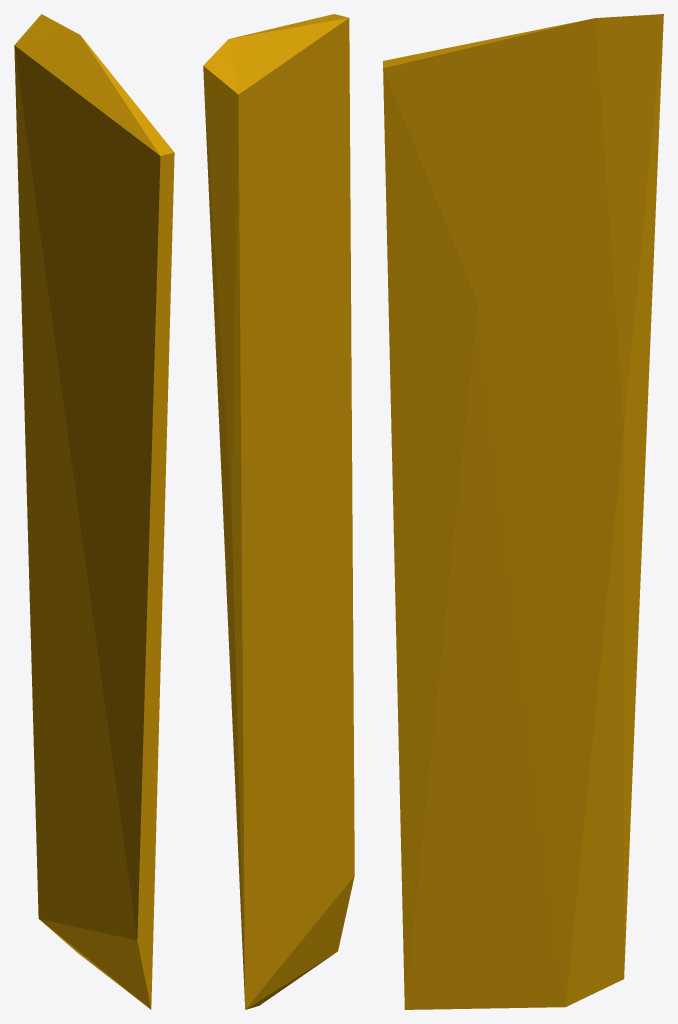
File: organic_bin_convex_piece_001.obj
3 views of the same model, side by side, from view 1: azimuth 30°, elevation 25°; view 2: azimuth 150°, elevation 25°; view 3: azimuth 270°, elevation 25° (orthographic). The views are drawn at different scales.
Size of the model in its own units: 0.0176 by 0.4047 by 0.103.
